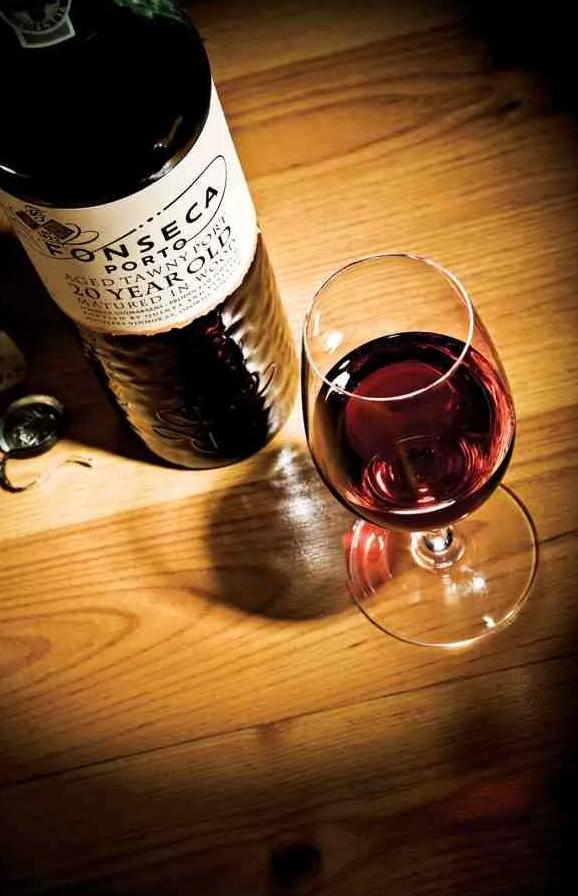wine bottle: (0, 0, 299, 468)
wine label: (1, 76, 258, 335)
